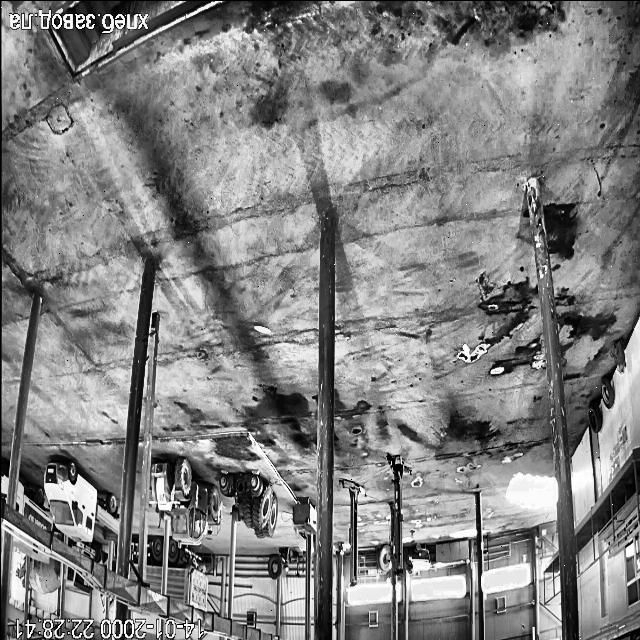class6: (151, 458, 221, 544), (220, 474, 278, 538)
class7: (44, 460, 118, 540), (167, 540, 208, 612), (16, 482, 52, 532), (29, 556, 60, 594), (146, 539, 163, 593), (13, 538, 48, 560), (68, 541, 102, 563), (66, 567, 92, 595), (129, 542, 141, 580), (0, 462, 8, 500), (18, 564, 24, 580), (100, 596, 104, 603), (101, 604, 104, 607)
tractor: (613, 340, 625, 372)
truck: (387, 454, 410, 573), (340, 479, 365, 586)
